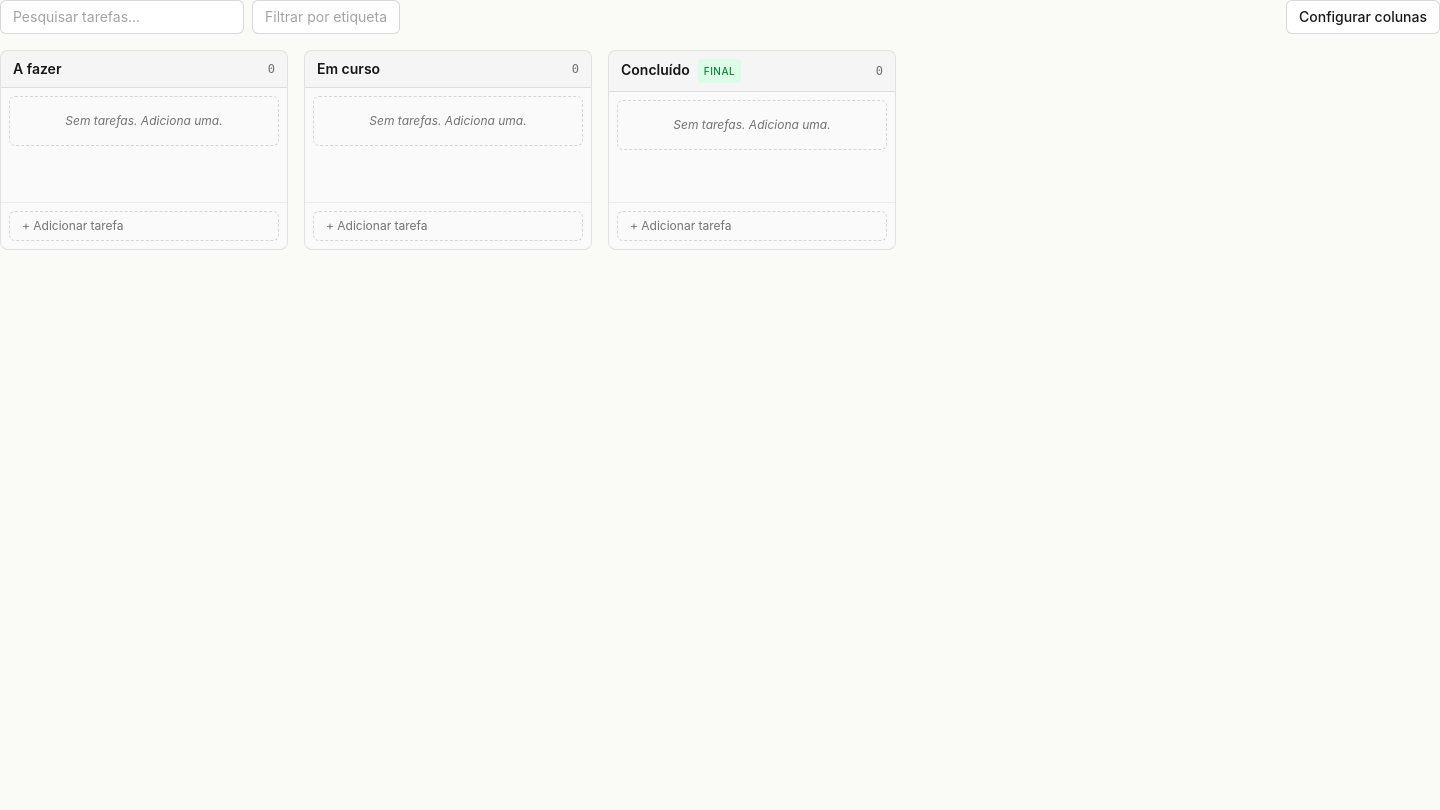
it: <KanbanBoardClient> › botão "Configurar colunas" abre ColumnConfigSheet
Click the button "Configurar colunas": [1363, 17] box [1286,0,1439,34]
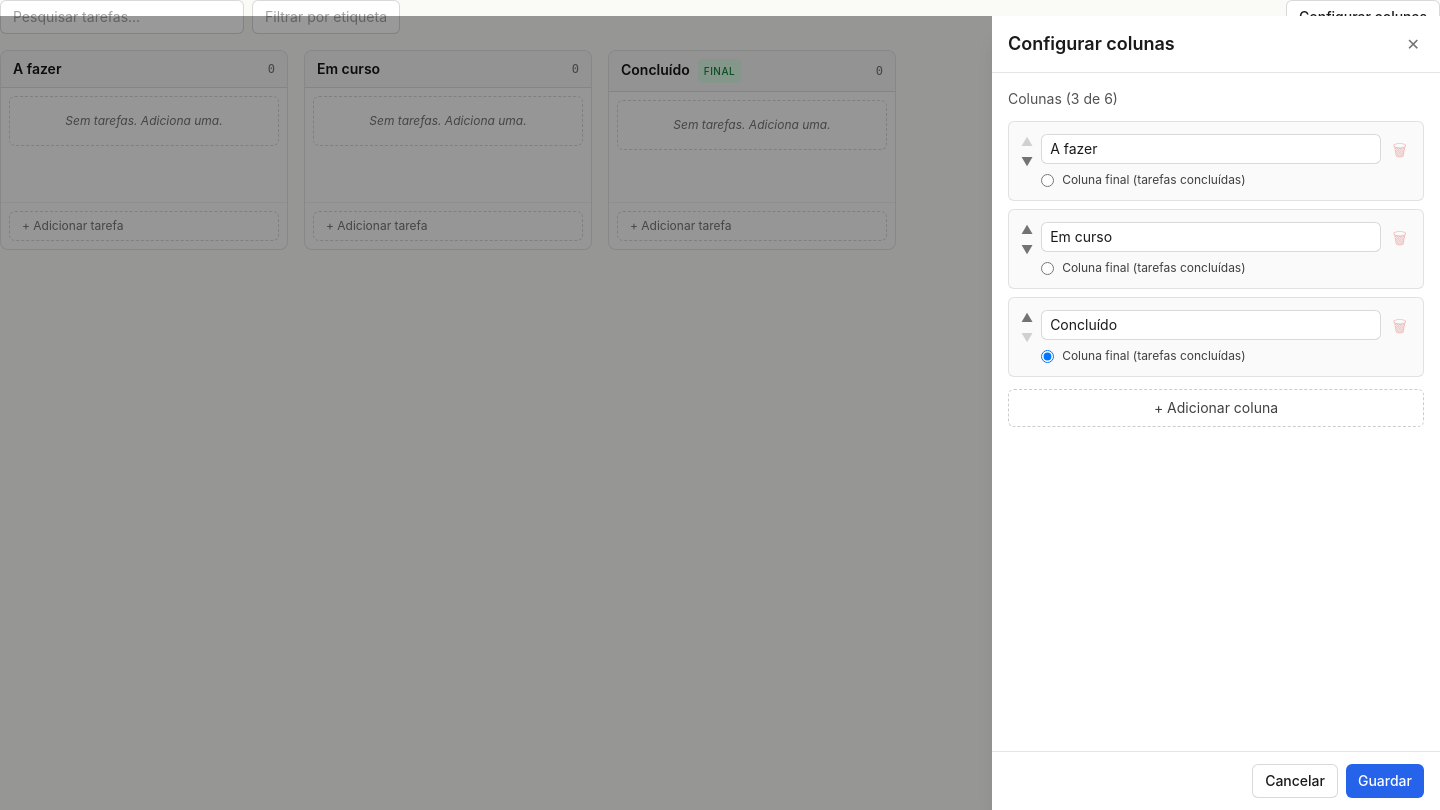
expect the dialog "Configurar colunas" is shown: met
